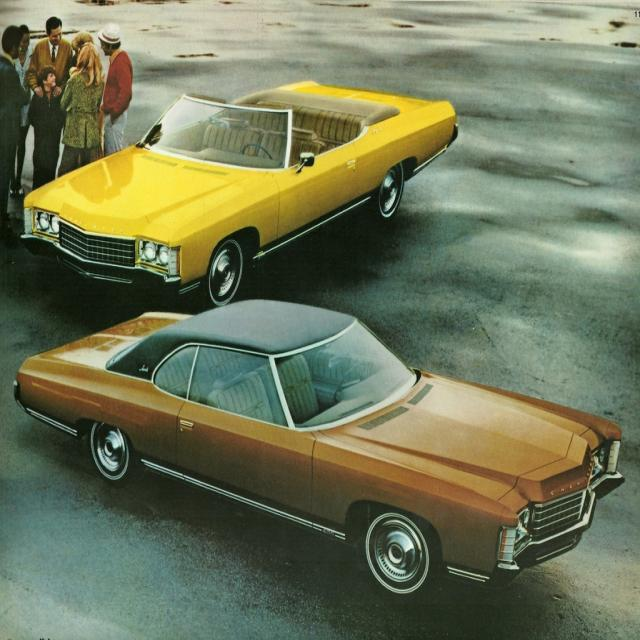car: (18, 309, 605, 591), (20, 91, 461, 306)
